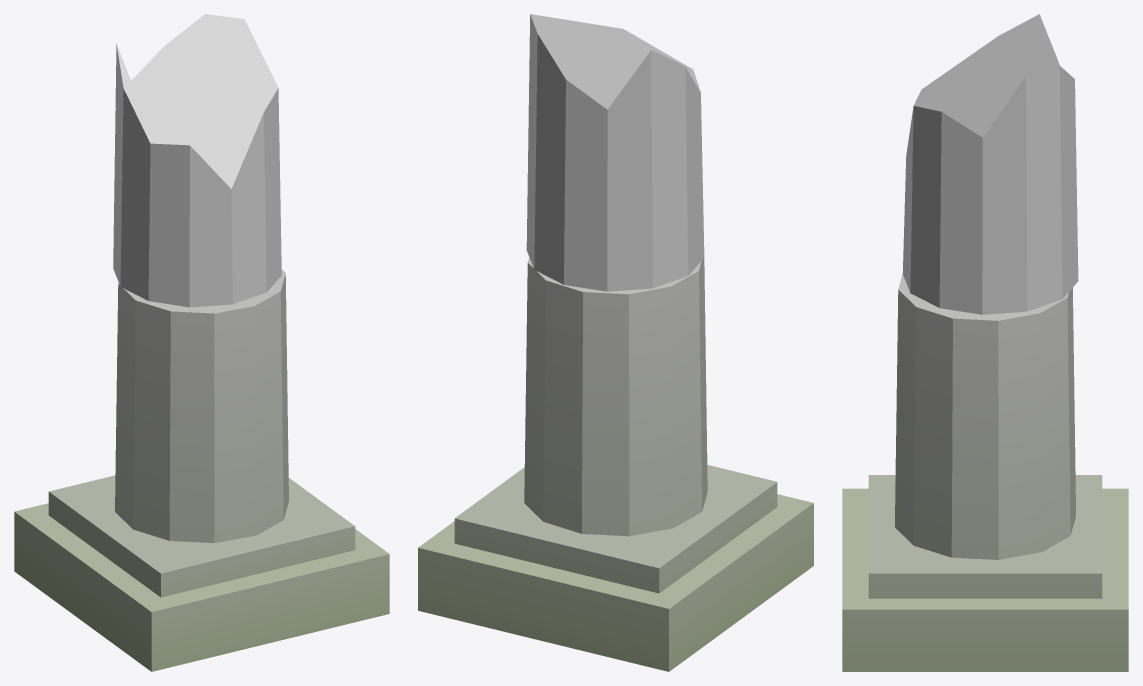
The model's file is pillar_broken_a.glb.
3 renders of one model, left to right at view 1: azimuth 30°, elevation 25°; view 2: azimuth 150°, elevation 25°; view 3: azimuth 270°, elevation 25°, orthographic. The views are drawn at different scales.
Visible parts, largest first — view 1: Pillar; view 2: Pillar; view 3: Pillar.
Part boxes in pixels (x1,y1,x2,y2): Pillar: (14, 14, 389, 671); Pillar: (418, 14, 813, 671); Pillar: (842, 14, 1128, 671).
Bounding box in the file's own units: 1.25 × 2.73 × 1.25.
